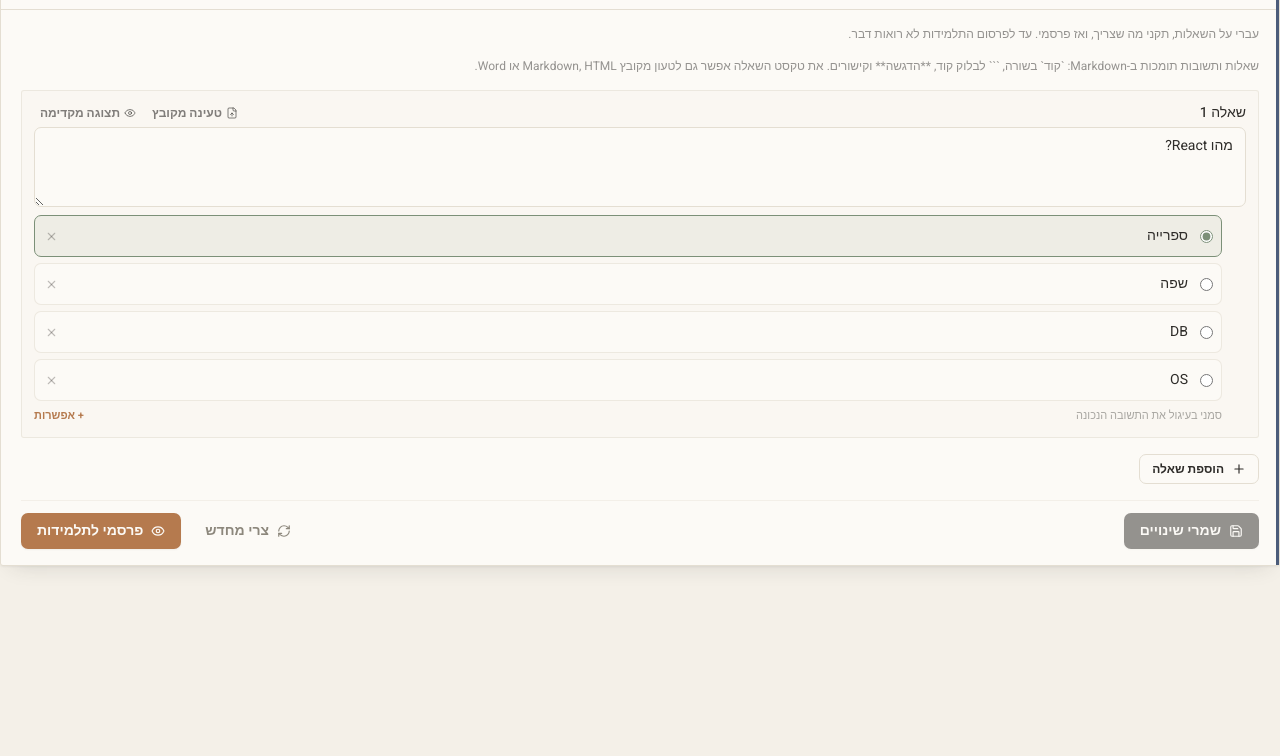
Test: QuizPanel - writing a quiz by hand › lets her add a question to a quiz the AI wrote
Click the button "הוספת שאלה". click: x=1199, y=469
box: [1139, 454, 1259, 484]
(page scrolled)
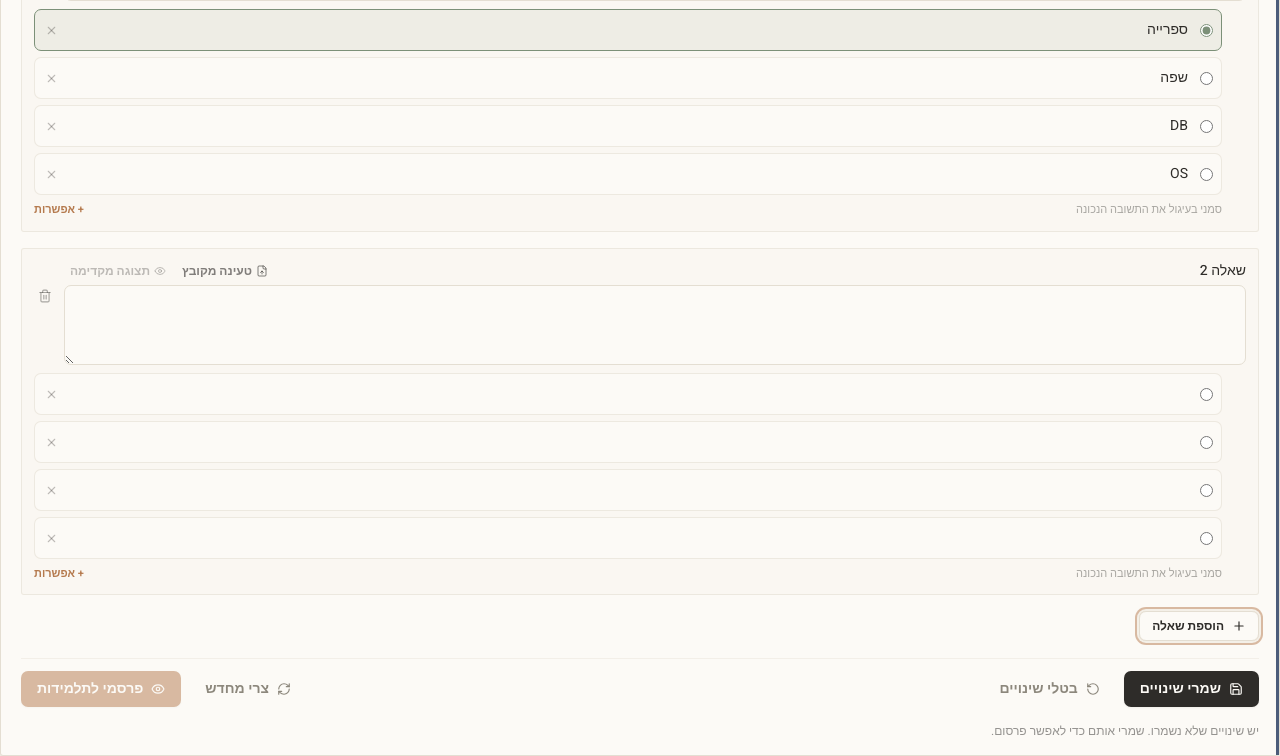
Result: the text box labelled "שאלה 2" is shown at [64, 285, 1246, 365]
Result: the button "שמרי שינויים" is enabled at [1124, 671, 1259, 707]
